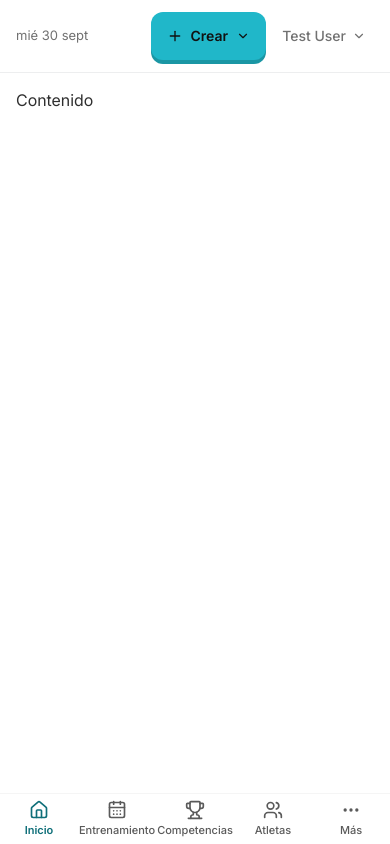
Scenario: AppShell › navegación móvil — BottomNav + MoreSheet (< md) › coach: 'Más' lista las áreas restantes (Familias) más Mi perfil, Salud IA y Cerrar sesión
The width and height of the screenshot is (390, 844).
Click the button "Más".
click(351, 819)  # box [312,794,389,843]
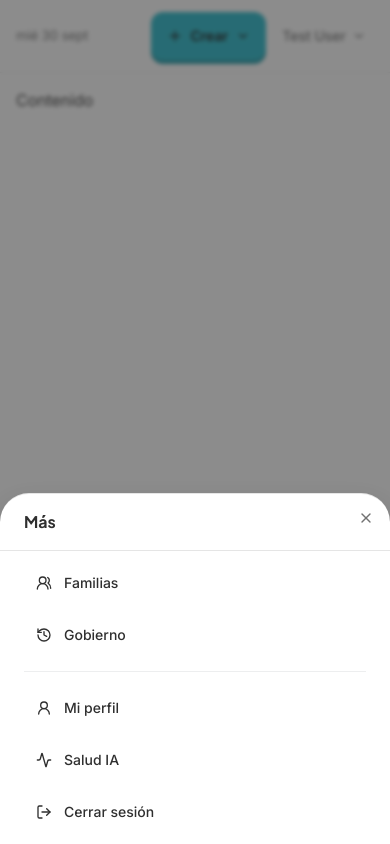
Expected: the link "Familias" is shown, [36,574,118,591]
Expected: the button "Cerrar sesión" is shown, [24,788,366,836]
